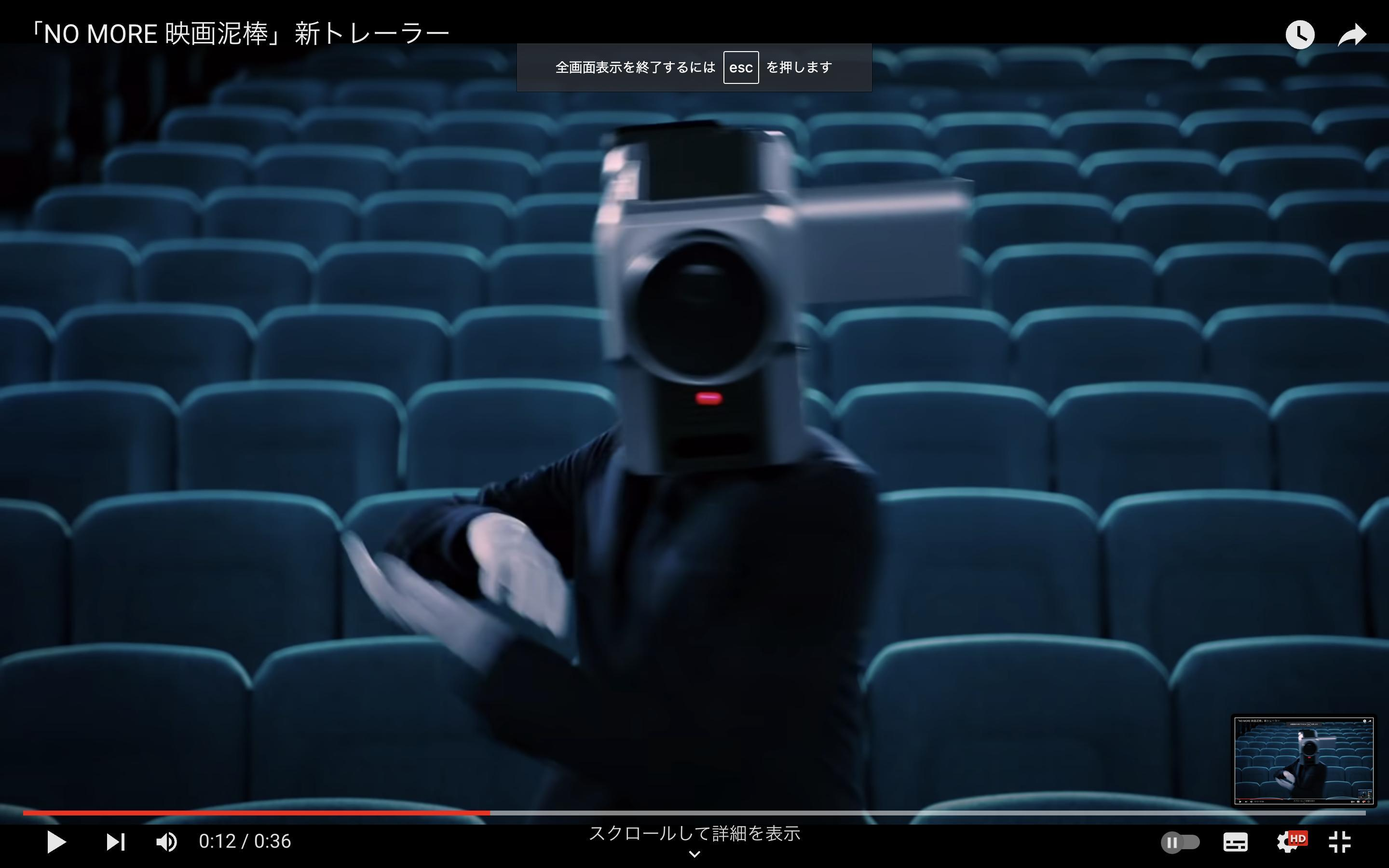no more kid: (574, 103, 991, 502)
